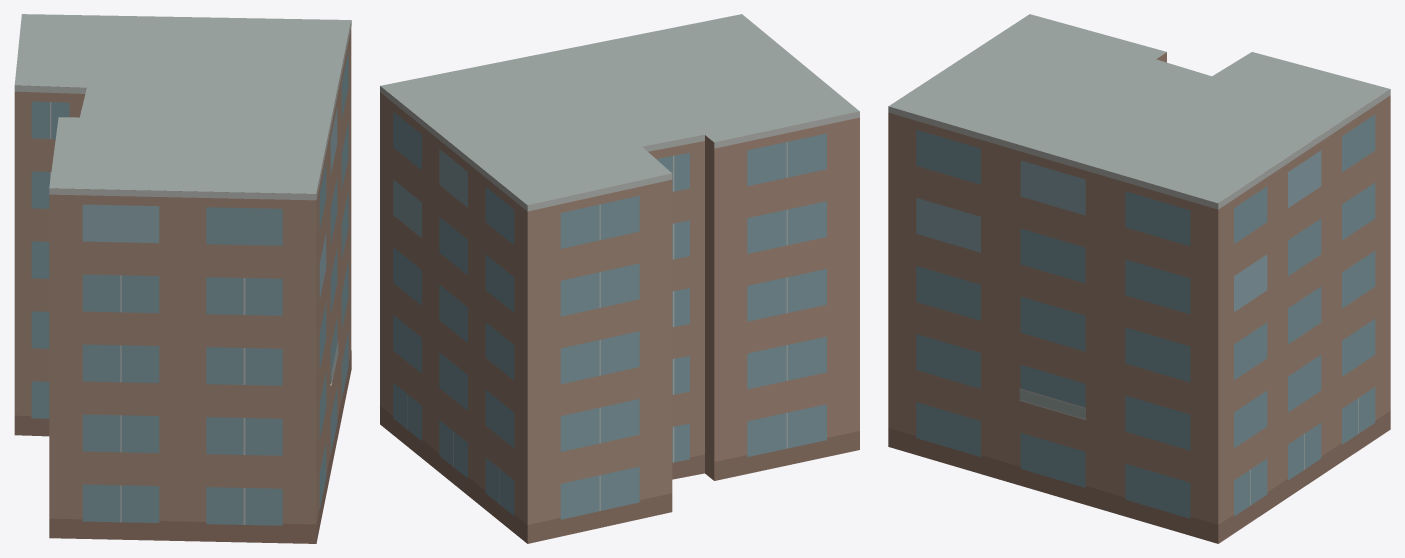
File: survey-upis-32929214.glb
3 views of the same model, side by side, from view 1: azimuth 30°, elevation 25°; view 2: azimuth 150°, elevation 25°; view 3: azimuth 270°, elevation 25° (orthographic). The views are drawn at different scales.
Parts seen in each view (by area): view 1: survey-upis-32929214.tmp; view 2: survey-upis-32929214.tmp; view 3: survey-upis-32929214.tmp.
Boxes of the visible parts, left/top/right/bottom form: survey-upis-32929214.tmp: left=14, top=14, right=351, bottom=543; survey-upis-32929214.tmp: left=380, top=14, right=859, bottom=543; survey-upis-32929214.tmp: left=888, top=14, right=1390, bottom=543.
Bounding box in the file's own units: 16 × 13.4 × 17.92.
